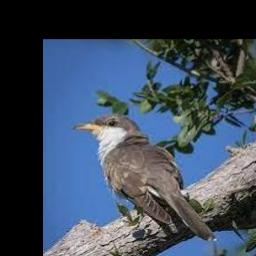Cuckoo: (74, 114, 218, 241)
